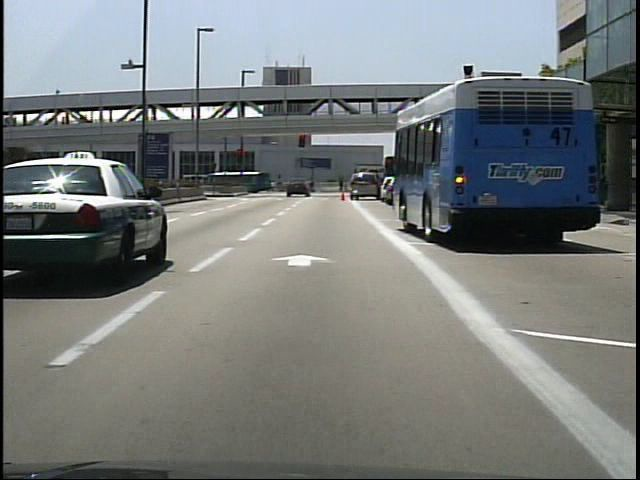person: (308, 180, 318, 195), (336, 177, 345, 193)
